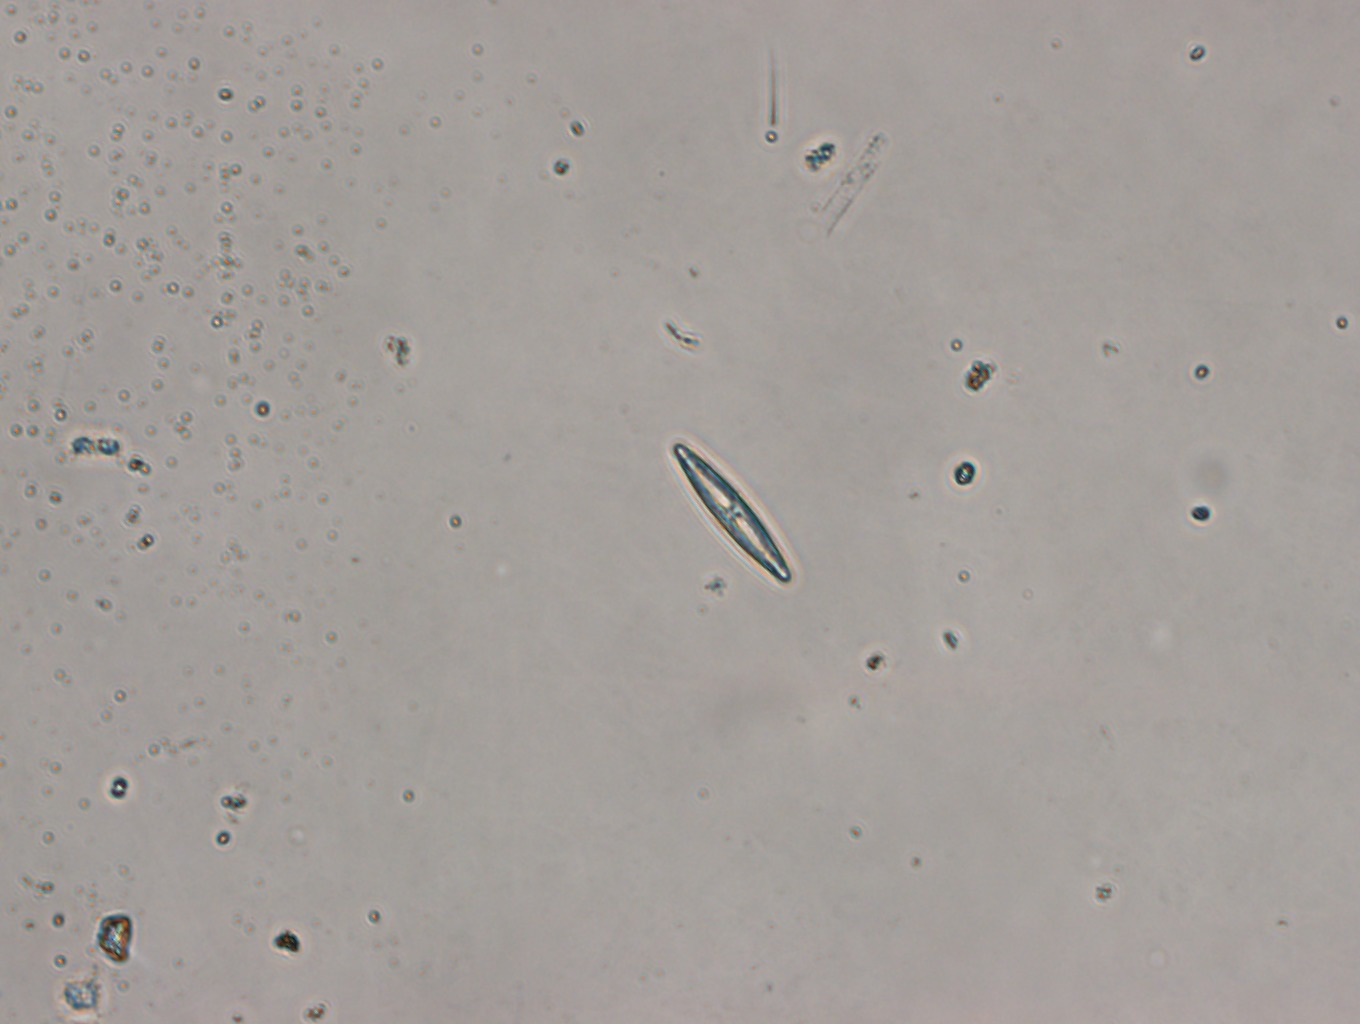navicula: (672, 440, 792, 585)
